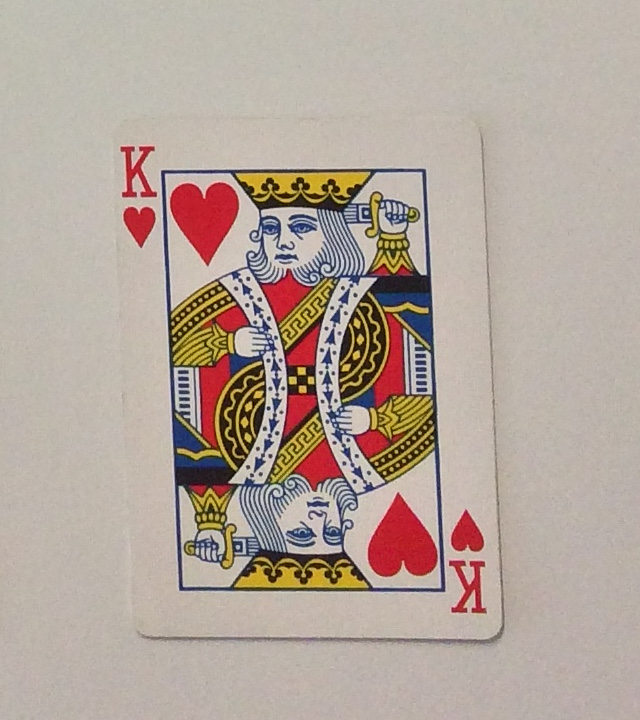H: (113, 202, 164, 252)
K: (112, 128, 162, 203)
